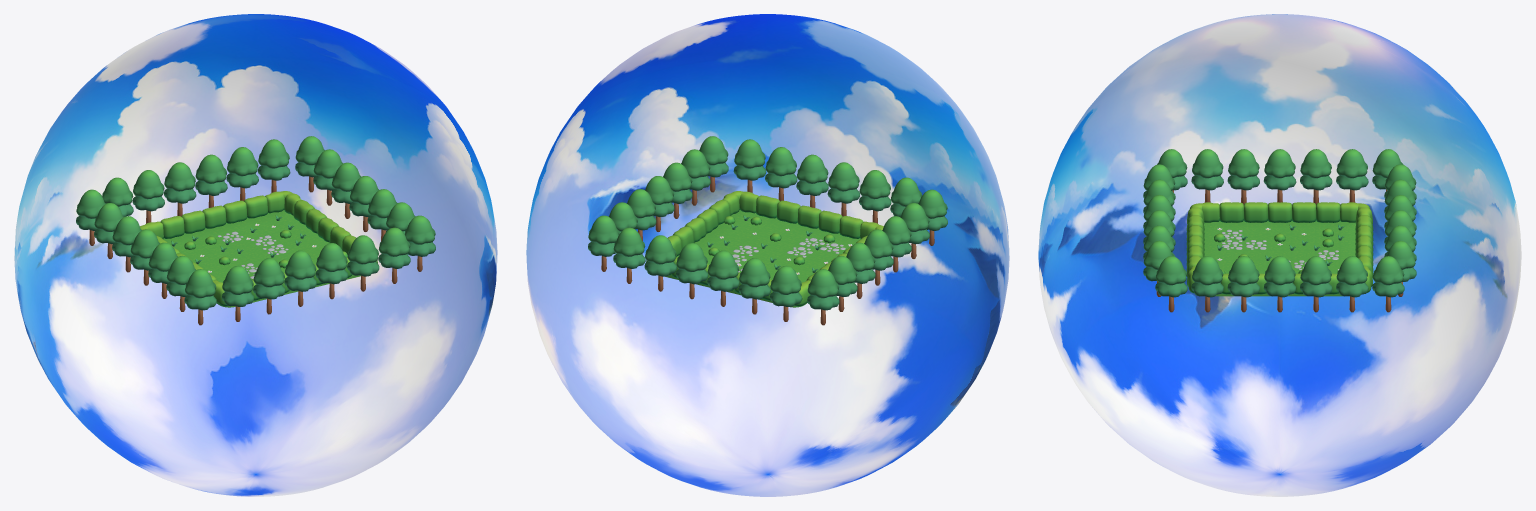
The picture shows the model from 3 angles, left to right: view 1: azimuth 30°, elevation 25°; view 2: azimuth 150°, elevation 25°; view 3: azimuth 270°, elevation 25°; orthographic projection.
Parts seen in each view (by area): view 1: Sphere, tree_large.026, floor_grass_sliced_base.022, hedge_straight.003, cobble_stones_large; view 2: Sphere, tree_large.026, floor_grass_sliced_base.022, hedge_straight.003, cobble_stones_large; view 3: Sphere, tree_large.026, hedge_straight.003, floor_grass_sliced_base.022, cobble_stones_large.
Boxes of the visible parts, left/top/right/bottom form: Sphere: left=14, top=14, right=497, bottom=496; tree_large.026: left=76, top=136, right=435, bottom=325; floor_grass_sliced_base.022: left=163, top=210, right=360, bottom=307; hedge_straight.003: left=140, top=191, right=377, bottom=306; cobble_stones_large: left=217, top=231, right=288, bottom=278; Sphere: left=526, top=14, right=1009, bottom=496; tree_large.026: left=588, top=136, right=947, bottom=325; floor_grass_sliced_base.022: left=664, top=210, right=860, bottom=307; hedge_straight.003: left=646, top=191, right=883, bottom=306; cobble_stones_large: left=732, top=238, right=845, bottom=272; Sphere: left=1038, top=14, right=1521, bottom=496; tree_large.026: left=1143, top=149, right=1416, bottom=312; hedge_straight.003: left=1186, top=202, right=1373, bottom=294; floor_grass_sliced_base.022: left=1204, top=220, right=1355, bottom=296; cobble_stones_large: left=1221, top=229, right=1338, bottom=269.
Bounding box in the file's own units: 40.11 × 40.11 × 40.11.
Materials: 11 (11 with a texture image).
